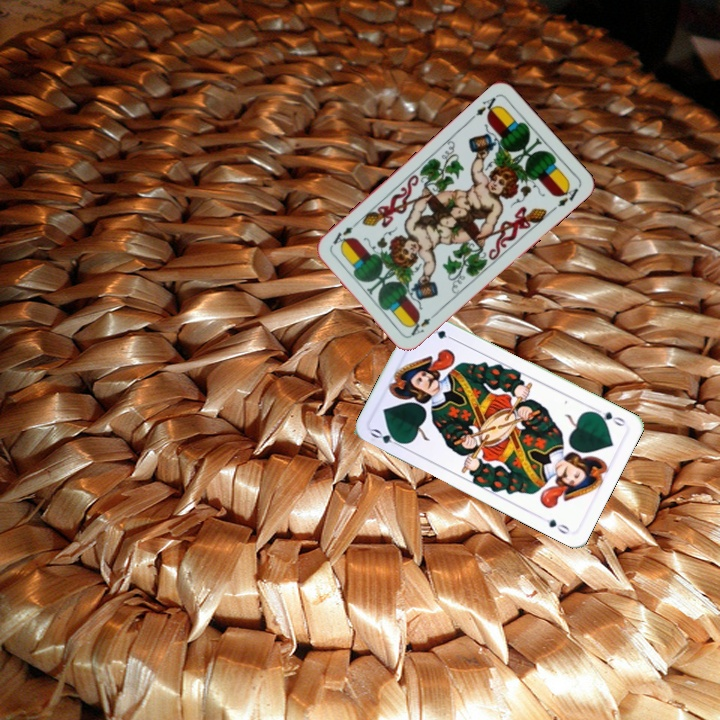EA: (406, 308, 440, 339), (466, 93, 502, 122)
GO: (367, 424, 407, 450), (589, 404, 628, 429)
